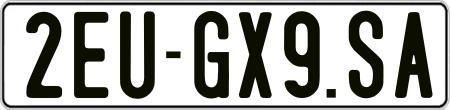2: (26, 10, 64, 100)
9: (284, 9, 321, 101)
A: (395, 11, 432, 101)
E: (73, 10, 110, 100)
G: (192, 8, 232, 98)
S: (348, 10, 384, 100)
U: (120, 11, 160, 104)
X: (239, 9, 275, 99)
